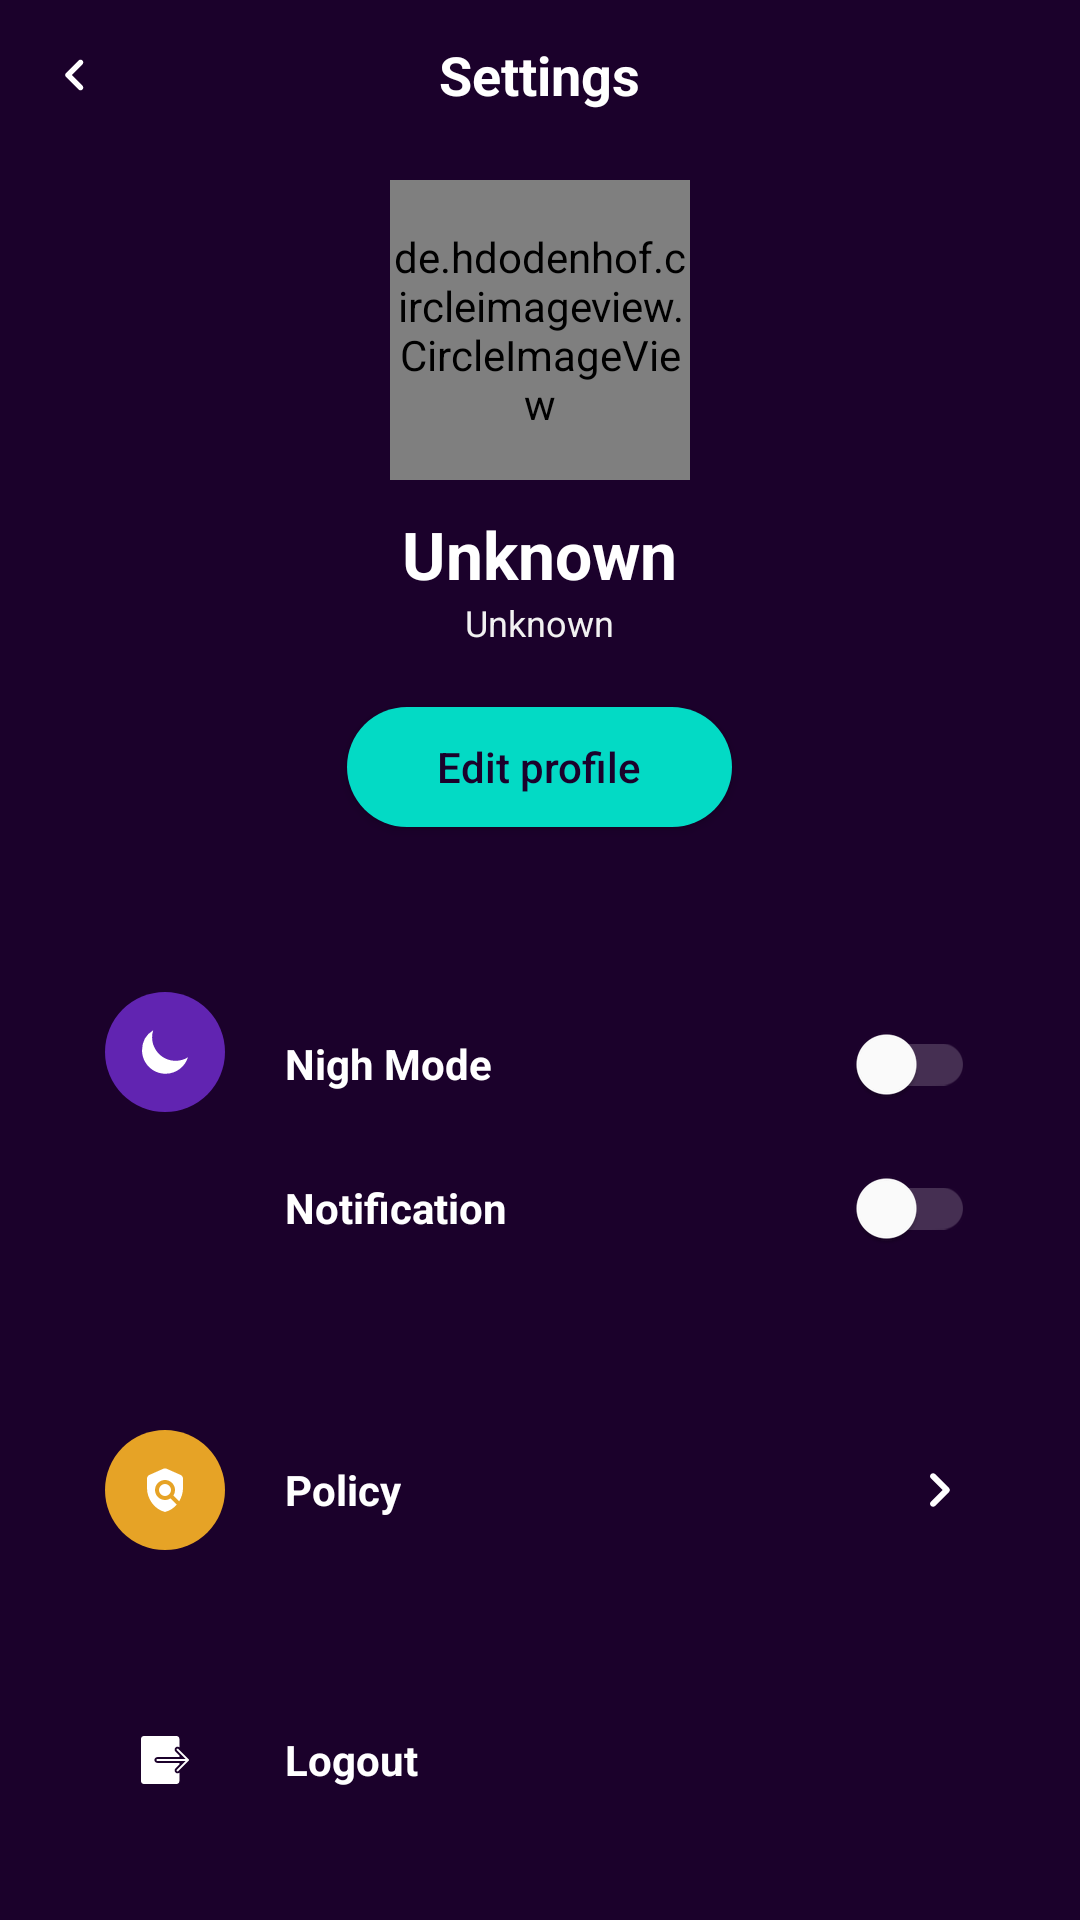

Where to tap for icons on this 1080w x 1920h app screen, as (x=x, y=y):
left: (x=74, y=75)
next: (x=940, y=1490)
night mode: (x=165, y=1052)
